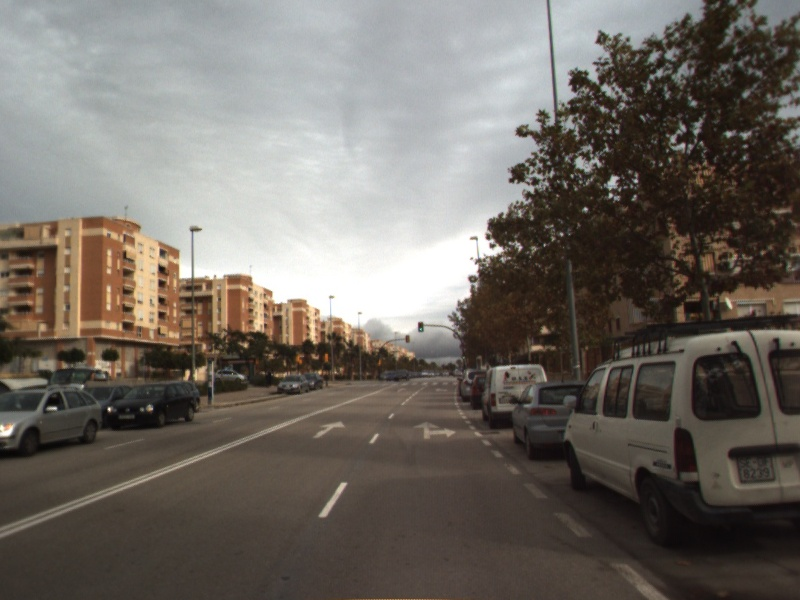STRAIGHT: (310, 418, 347, 440)
STRAIGHT_RIGHT: (412, 419, 458, 441)
